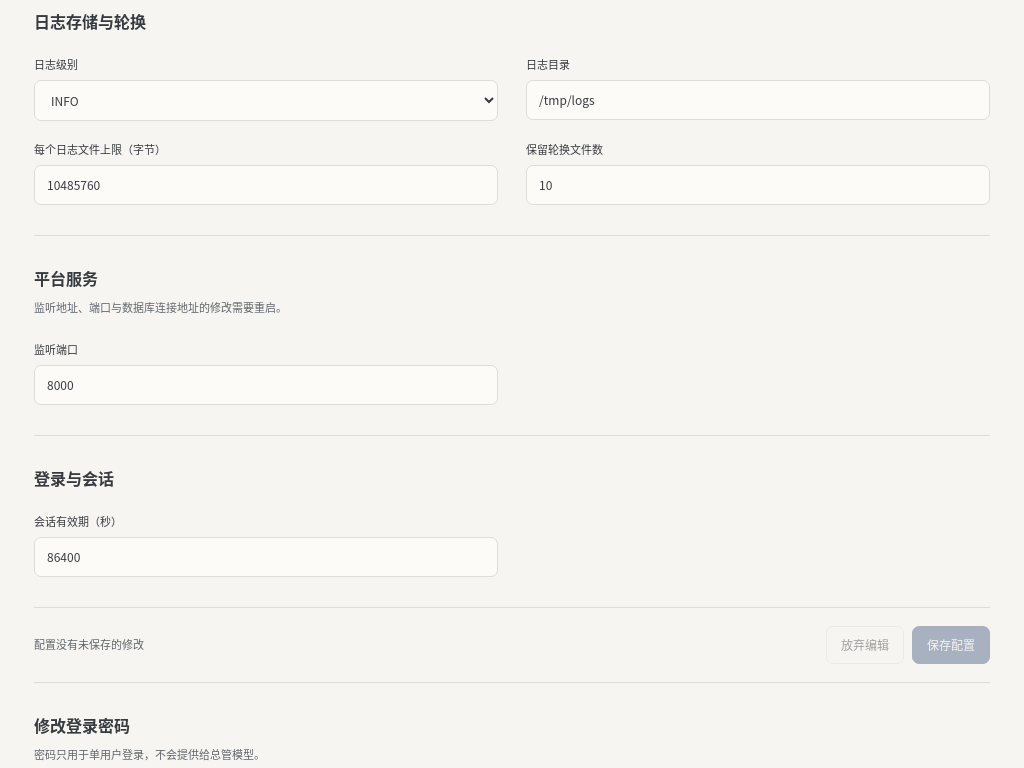
Scenario: 模型配置 › 保存 监听端口 后提示重启，表单保持当前生效值
(page scrolled)
Replace the text in the number field labelled "监听端口" with "9000" at (266, 385), box [34, 365, 498, 405]
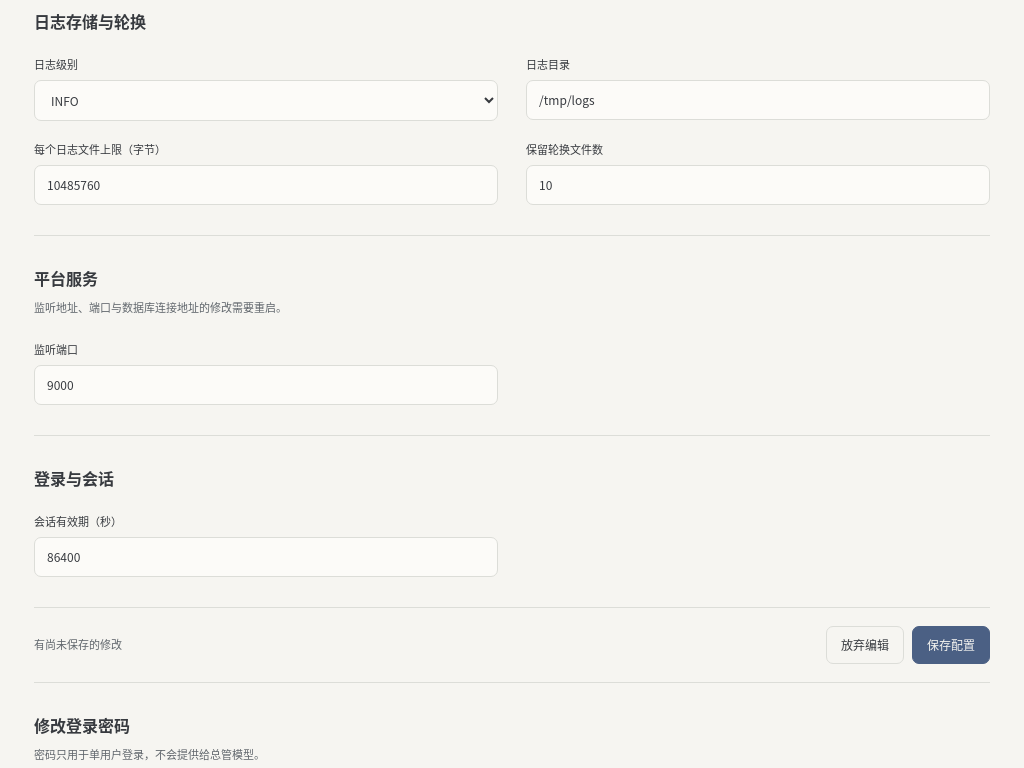
Click the button "保存配置" at (951, 645), box [912, 626, 990, 664]
(page scrolled)
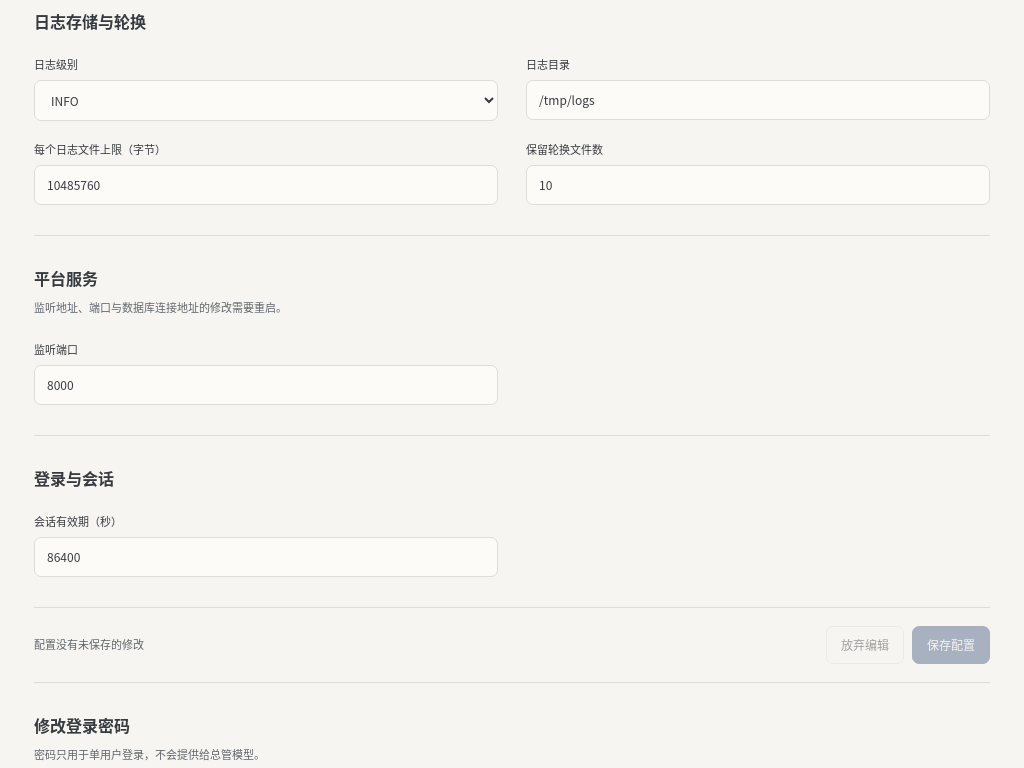
Expected: the number field labelled "监听端口" holds "8000", [34, 365, 498, 405]
